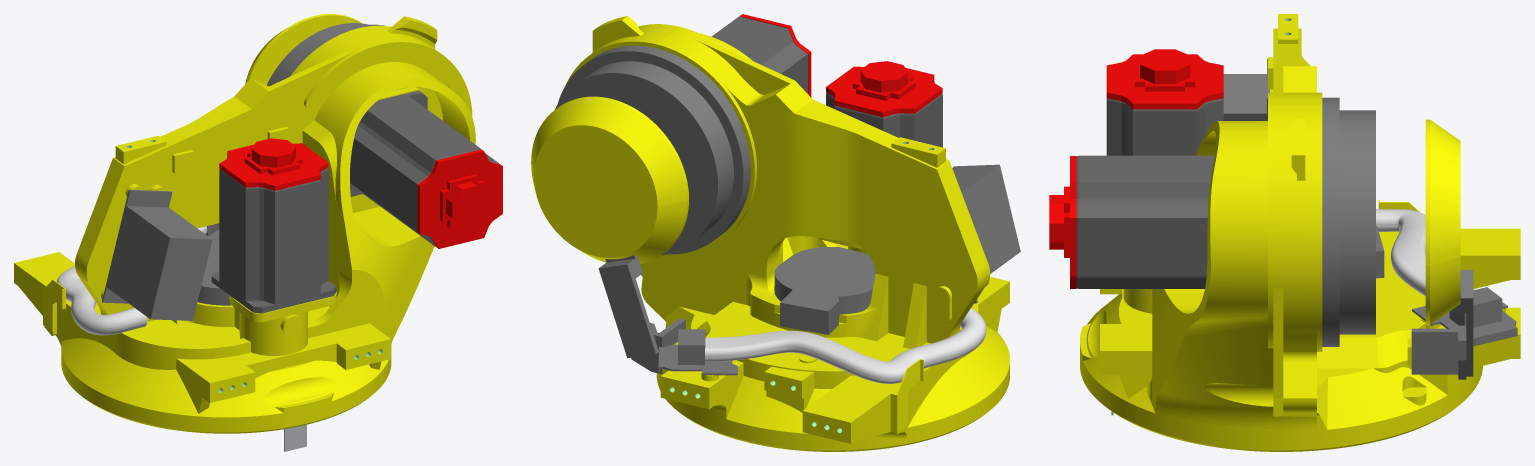
3 views of the same model, side by side, from view 1: azimuth 30°, elevation 25°; view 2: azimuth 150°, elevation 25°; view 3: azimuth 270°, elevation 25° (orthographic). The views are drawn at different scales.
Visible parts, largest first — view 1: Mesh_0; view 2: Mesh_0; view 3: Mesh_0.
Part boxes in pixels (x1,y1,x2,y2): Mesh_0: [14, 14, 502, 451]; Mesh_0: [531, 14, 1020, 451]; Mesh_0: [1049, 14, 1520, 451].
Bounding box in the file's own units: 0.8053 × 0.7015 × 0.6599.
